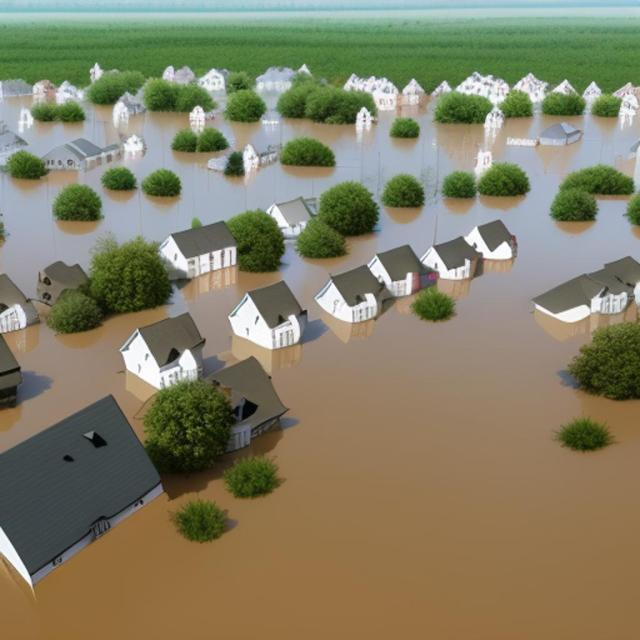house: (0, 386, 172, 625), (179, 355, 289, 449), (530, 253, 640, 326), (120, 313, 206, 393), (230, 279, 304, 352), (159, 218, 239, 284), (314, 266, 380, 335), (454, 218, 523, 272), (366, 241, 426, 300), (37, 138, 122, 173), (424, 236, 481, 283), (267, 196, 323, 238), (41, 261, 90, 307), (536, 119, 582, 149), (617, 85, 640, 124), (354, 105, 374, 128)
